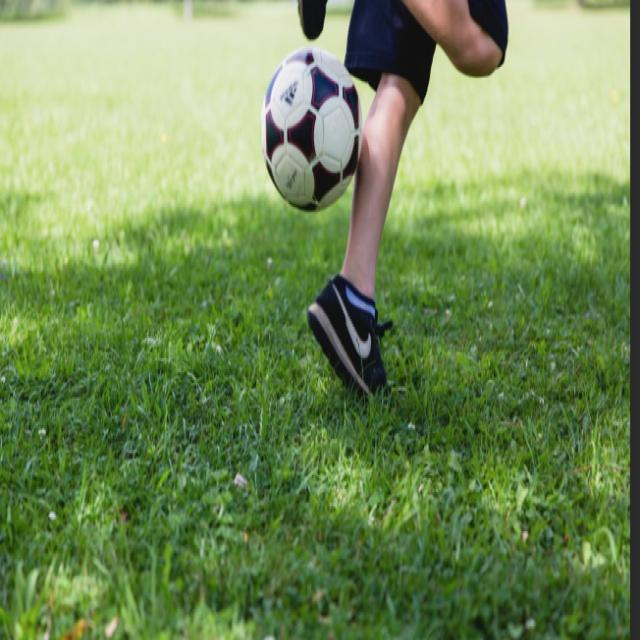football: (258, 36, 366, 220)
